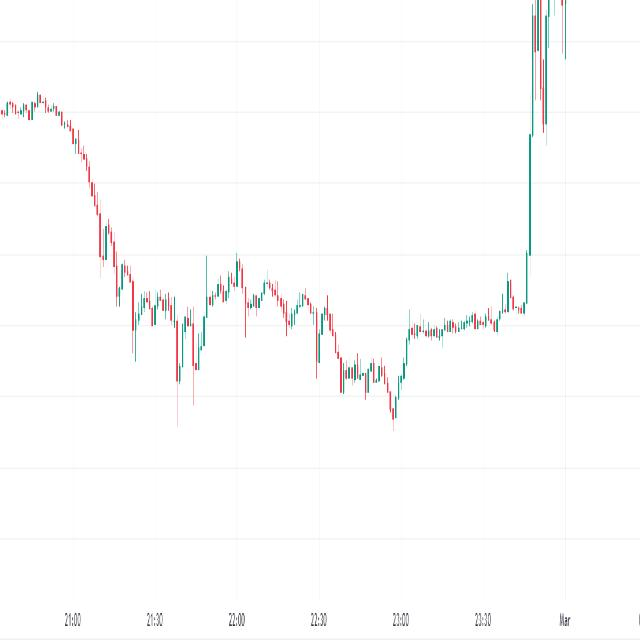rectangle: (405, 293, 505, 359)
